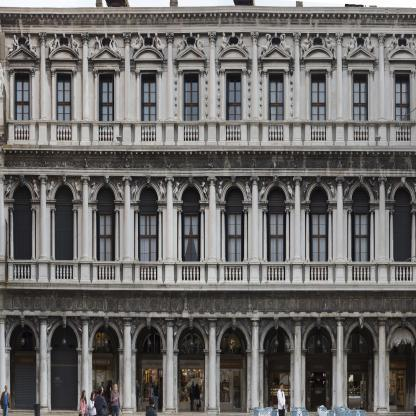Balcony: (49, 120, 80, 146), (91, 121, 122, 147), (133, 121, 164, 147), (176, 120, 207, 146), (303, 120, 334, 146), (7, 120, 37, 146), (218, 120, 248, 146), (261, 120, 291, 146), (346, 120, 376, 146), (6, 259, 37, 283), (49, 260, 80, 284), (91, 260, 122, 284), (133, 261, 164, 285), (218, 261, 249, 285), (303, 261, 334, 285), (346, 261, 377, 285), (388, 120, 416, 146), (176, 261, 206, 285), (261, 261, 291, 285), (388, 261, 416, 285)
Building Outline: (0, 6, 416, 412)
Cornice: (133, 46, 164, 61), (6, 46, 37, 61), (175, 46, 206, 61), (303, 45, 334, 60), (91, 46, 121, 61), (260, 46, 291, 60), (345, 46, 376, 60), (49, 46, 79, 60), (218, 46, 248, 60), (388, 46, 416, 60)
Deco: (131, 317, 167, 350), (216, 317, 252, 350), (259, 317, 294, 350), (46, 316, 82, 348), (88, 316, 124, 348), (301, 317, 337, 349), (343, 317, 379, 349), (5, 315, 40, 347), (173, 318, 209, 349), (300, 32, 337, 61), (385, 317, 416, 349), (86, 33, 124, 59), (131, 31, 166, 59), (88, 174, 125, 200), (343, 175, 380, 201), (258, 33, 294, 59), (301, 175, 337, 201), (3, 174, 40, 199), (130, 176, 167, 201), (215, 176, 252, 201), (258, 175, 295, 200), (46, 175, 83, 199), (173, 176, 209, 200), (5, 33, 39, 58), (48, 33, 80, 59), (384, 33, 416, 59), (174, 32, 207, 57), (343, 33, 376, 58), (217, 32, 250, 56), (385, 176, 416, 201), (124, 158, 130, 168), (208, 159, 214, 169), (379, 159, 385, 169), (167, 158, 172, 169), (83, 158, 88, 168), (251, 159, 256, 169), (294, 158, 299, 168), (337, 159, 342, 169), (41, 158, 46, 167)
Door: (92, 325, 120, 412), (135, 325, 163, 412), (220, 326, 248, 413), (263, 326, 291, 413), (305, 326, 333, 413), (347, 325, 375, 412), (177, 326, 205, 413), (9, 323, 36, 411), (389, 325, 416, 412), (51, 324, 78, 411), (15, 364, 39, 407), (351, 236, 371, 284), (393, 236, 412, 284), (13, 235, 32, 283), (139, 236, 158, 284), (182, 236, 201, 284), (225, 236, 244, 284), (267, 236, 286, 284), (309, 236, 328, 284), (97, 236, 116, 284), (55, 236, 74, 284), (395, 104, 410, 143), (15, 102, 30, 141), (57, 102, 72, 141), (99, 103, 114, 142), (141, 103, 156, 142), (184, 103, 199, 142), (226, 103, 241, 142), (269, 103, 284, 142), (311, 103, 326, 142), (353, 103, 368, 142), (233, 369, 242, 410), (67, 375, 75, 409)
Facade: (0, 6, 416, 415)
Floor: (1, 152, 416, 291)
Floor Slab: (1, 284, 416, 291), (1, 145, 416, 151)
Ground Floor: (1, 291, 416, 413)
Molding: (0, 288, 416, 314), (0, 12, 416, 28), (3, 149, 416, 157), (4, 160, 416, 168)
Pillar: (248, 31, 261, 146), (376, 176, 389, 284), (291, 31, 303, 146), (334, 31, 346, 146), (37, 31, 49, 145), (206, 31, 218, 145), (376, 32, 388, 146), (79, 32, 91, 145), (164, 32, 176, 145), (121, 32, 133, 145), (37, 174, 49, 282), (121, 176, 133, 284), (206, 176, 218, 284), (249, 176, 261, 284), (334, 176, 346, 284), (80, 175, 91, 283), (164, 176, 175, 284), (292, 176, 303, 283), (249, 317, 261, 413), (38, 315, 49, 411), (122, 316, 133, 412), (164, 317, 175, 413), (377, 317, 388, 413), (207, 317, 218, 413), (335, 316, 346, 412), (292, 317, 303, 412), (80, 316, 90, 412), (8, 207, 15, 259), (220, 209, 227, 261), (30, 207, 36, 260), (50, 207, 56, 260), (114, 208, 120, 261), (199, 68, 205, 120), (72, 208, 78, 260), (92, 208, 98, 260), (157, 209, 163, 261), (177, 209, 183, 261), (199, 209, 205, 261), (262, 209, 268, 261), (285, 209, 291, 261), (327, 209, 333, 261), (369, 209, 375, 261), (389, 69, 395, 120), (93, 69, 99, 120), (157, 69, 163, 120), (262, 69, 268, 120), (389, 209, 394, 262), (411, 209, 416, 262), (30, 68, 35, 120), (9, 68, 14, 120), (51, 68, 56, 120), (115, 69, 120, 121), (242, 68, 247, 120), (220, 68, 225, 120), (284, 68, 289, 120), (327, 68, 332, 120), (411, 69, 416, 121), (134, 209, 139, 261), (243, 209, 248, 261), (305, 209, 310, 261), (347, 209, 352, 261), (347, 69, 352, 120), (369, 69, 374, 120), (72, 69, 77, 120), (135, 70, 140, 121), (178, 69, 183, 120), (305, 69, 310, 120)
Shop: (269, 370, 294, 410), (306, 370, 330, 409), (346, 371, 368, 409), (180, 368, 204, 402), (142, 368, 158, 402), (220, 369, 232, 402), (142, 361, 162, 367), (180, 361, 200, 367), (93, 358, 110, 365), (220, 362, 241, 366), (276, 365, 285, 369), (352, 365, 360, 369)
Top Floor: (1, 19, 416, 152)
Window: (52, 329, 76, 351), (12, 184, 32, 210), (96, 185, 116, 211), (181, 185, 201, 211), (224, 185, 244, 211), (266, 185, 286, 211), (54, 185, 74, 211), (218, 333, 242, 354), (180, 333, 204, 354), (142, 333, 166, 354), (89, 332, 113, 353), (351, 211, 371, 236), (309, 186, 329, 211), (351, 186, 371, 211), (306, 334, 331, 354), (343, 334, 368, 354), (393, 185, 412, 211), (139, 185, 158, 211), (382, 334, 406, 354), (15, 331, 39, 351), (393, 211, 412, 236), (13, 210, 32, 235), (139, 211, 158, 236), (182, 211, 201, 236), (225, 211, 244, 236), (267, 211, 286, 236), (309, 211, 328, 236), (97, 211, 116, 236), (55, 211, 74, 236), (269, 334, 292, 354), (395, 74, 410, 103), (99, 73, 114, 102), (141, 74, 156, 103), (184, 74, 199, 103), (226, 74, 241, 103), (269, 74, 284, 103), (311, 74, 326, 103), (353, 74, 368, 103), (15, 73, 30, 101), (57, 73, 72, 101)
